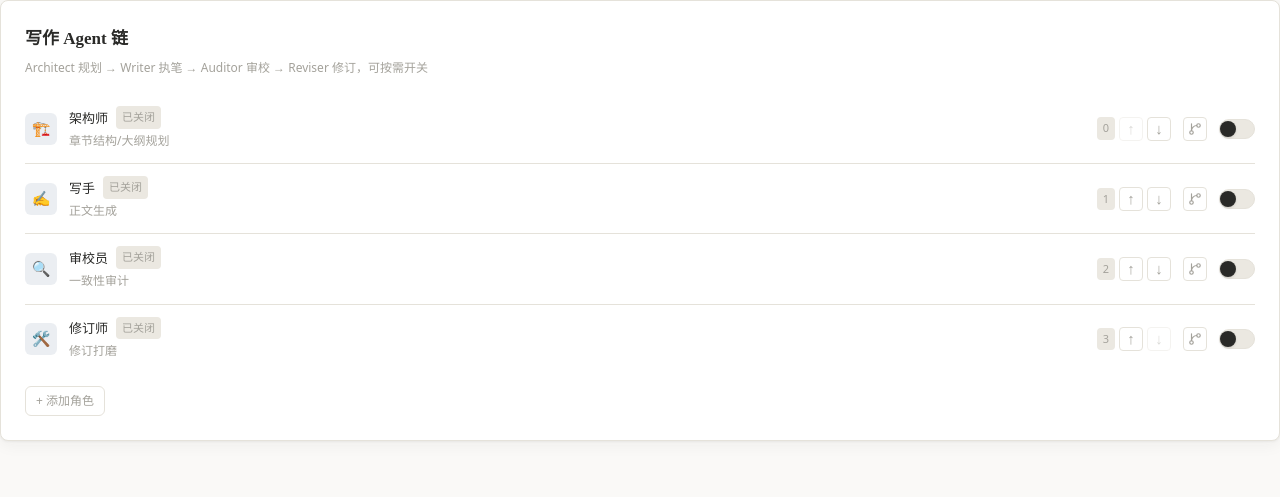
Scenario: AgentChainCard — v1.5 #484 自定义 Agent 进链（spec §5.7.2/§5.7.4） › 自定义 Agent 出现在角色池（builtin=false 分组，field=agent_researcher）
Expected: the text "架构师" is shown, [69,107,108,129]
Click the button with test id "agent-chain-add-role": (65, 401) [25,386,105,416]
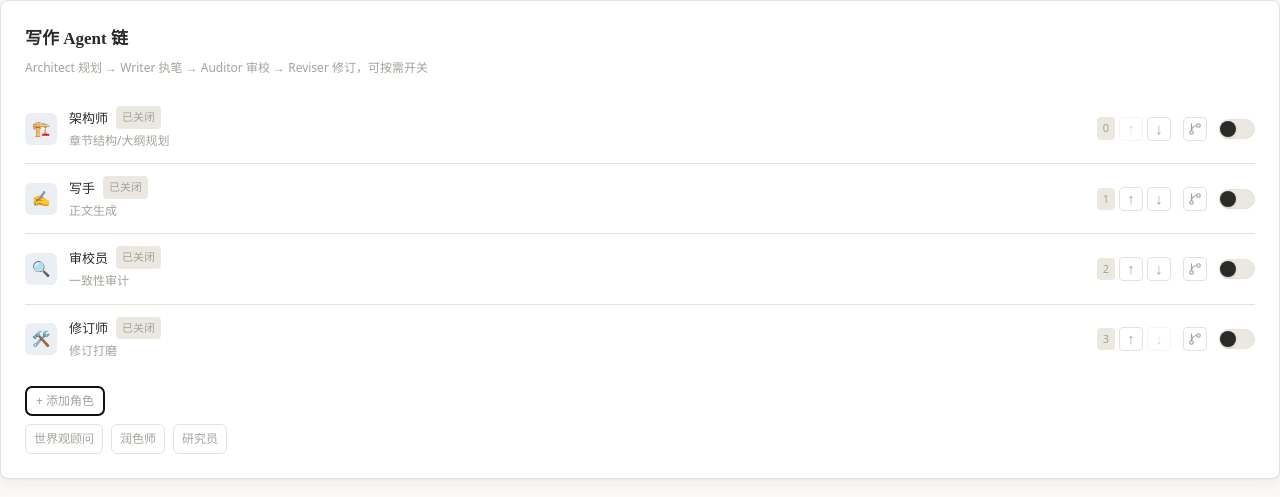
Now the button with test id "agent-chain-role-option-agent_researcher" is shown, box [173,424,227,454]
